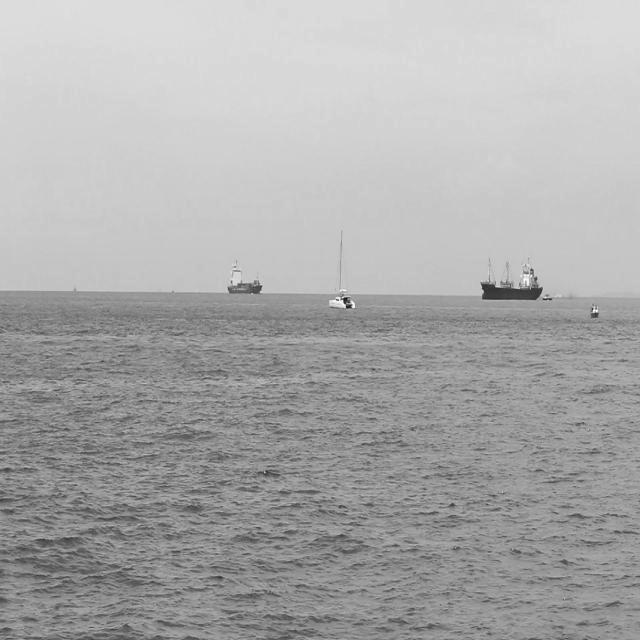ship: (479, 254, 544, 301), (328, 228, 357, 310), (226, 257, 263, 294), (590, 301, 600, 319), (542, 294, 554, 302)
